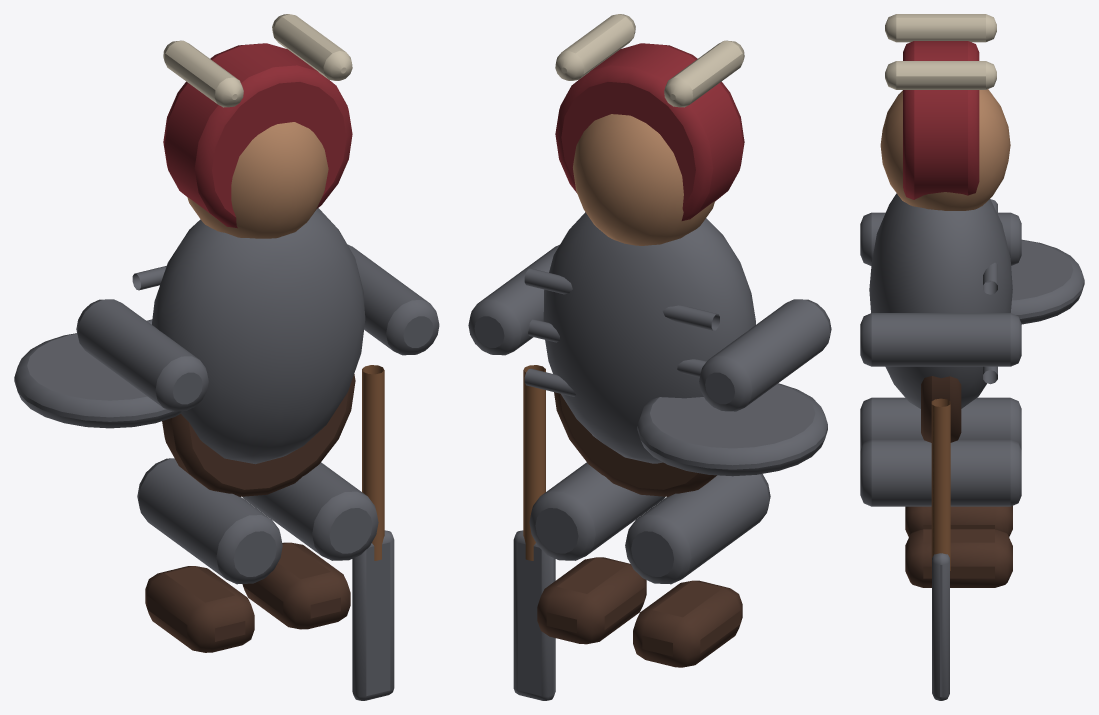
The model's file is brute.glb.
3 renders of one model, left to right at view 1: azimuth 30°, elevation 25°; view 2: azimuth 150°, elevation 25°; view 3: azimuth 270°, elevation 25°, orthographic. The views are drawn at different scales.
Parts seen in each view (by area): view 1: TorsoMesh, Hood, LeftLegMesh, Head, Shield, LeftArmMesh, RightLegMesh, LeftLegBoot, Belt, Blade, RightLegBoot, RightArmMesh (+3 smaller); view 2: TorsoMesh, Hood, Shield, Head, LeftLegMesh, LeftArmMesh, RightLegMesh, LeftLegBoot, RightLegBoot, Blade, RightArmMesh, Belt (+6 smaller); view 3: TorsoMesh, RightLegMesh, Hood, RightArmMesh, Head, LeftLegMesh, RightLegBoot, Shield, WeaponHandle, Horn.001, Horn, Blade (+4 smaller).
Part boxes in pixels (box(x1,y1,x2,y2)): TorsoMesh: box(152, 208, 365, 464); Hood: box(163, 43, 352, 228); LeftLegMesh: box(137, 458, 282, 584); Head: box(187, 122, 328, 238); Shield: box(14, 333, 181, 428); LeftArmMesh: box(76, 299, 208, 411); RightLegMesh: box(242, 462, 378, 560); LeftLegBoot: box(145, 566, 254, 652); Belt: box(162, 374, 355, 496); Blade: box(352, 530, 394, 700); RightLegBoot: box(242, 542, 350, 629); RightArmMesh: box(347, 244, 439, 355); TorsoMesh: box(543, 212, 755, 463); Hood: box(555, 43, 744, 220); Shield: box(637, 383, 827, 476); Head: box(573, 114, 714, 245); LeftLegMesh: box(625, 474, 770, 584); LeftArmMesh: box(699, 299, 831, 411); RightLegMesh: box(529, 462, 665, 560); LeftLegBoot: box(633, 580, 742, 667); RightLegBoot: box(537, 557, 646, 644); Blade: box(513, 530, 555, 700); RightArmMesh: box(468, 244, 559, 355); Belt: box(554, 392, 716, 496); TorsoMesh: box(869, 193, 1012, 408); RightLegMesh: box(860, 439, 1021, 506); Hood: box(903, 41, 979, 199); RightArmMesh: box(860, 313, 1021, 366); Head: box(880, 89, 1010, 210); LeftLegMesh: box(860, 397, 1021, 450); RightLegBoot: box(905, 529, 1012, 587); Shield: box(1011, 239, 1084, 324); WeaponHandle: box(931, 398, 950, 570); Horn.001: box(885, 61, 996, 89); Horn: box(885, 14, 996, 42); Blade: box(932, 553, 949, 700).
Size of the model in its own units: 1.87 by 3.58 by 1.2.
